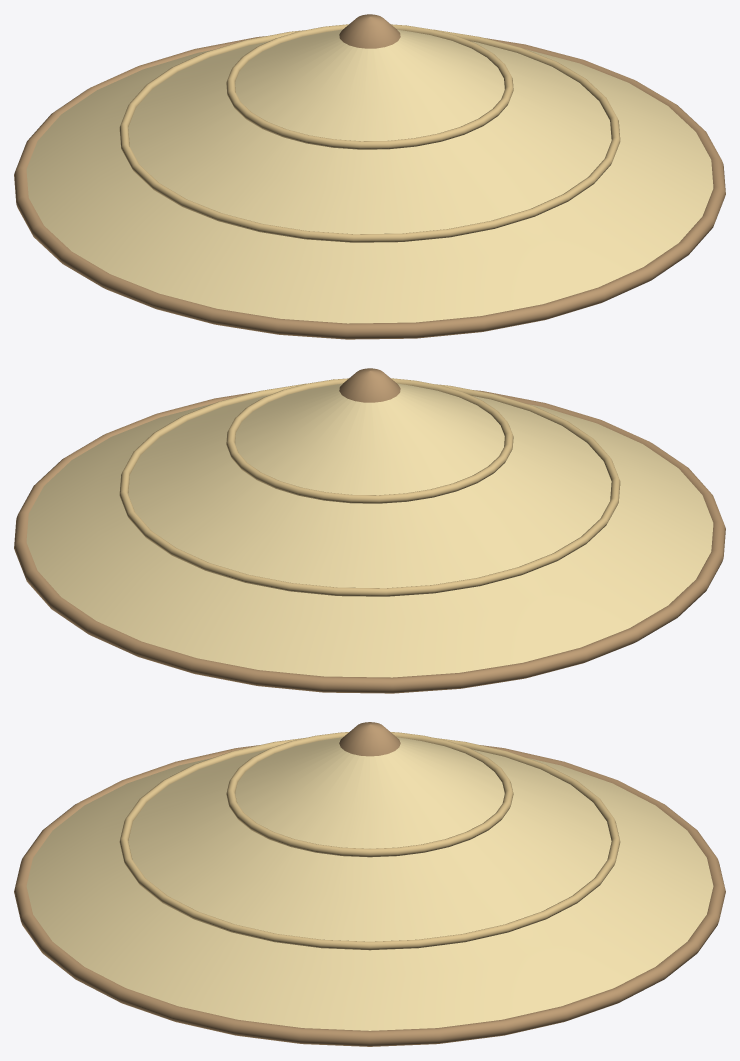
Rendered from chapeu_chines.glb.
The picture shows the model from 3 angles, top to bottom: view 1: azimuth 30°, elevation 25°; view 2: azimuth 150°, elevation 25°; view 3: azimuth 270°, elevation 25°; orthographic projection.
Parts seen in each view (by area): view 1: Chapeu_Chines; view 2: Chapeu_Chines; view 3: Chapeu_Chines.
Boxes of the visible parts, left/top/right/bottom form: Chapeu_Chines: left=14, top=14, right=725, bottom=339; Chapeu_Chines: left=14, top=368, right=725, bottom=693; Chapeu_Chines: left=14, top=722, right=725, bottom=1046.
Bounding box in the file's own units: 2.2 × 0.5938 × 2.2.
